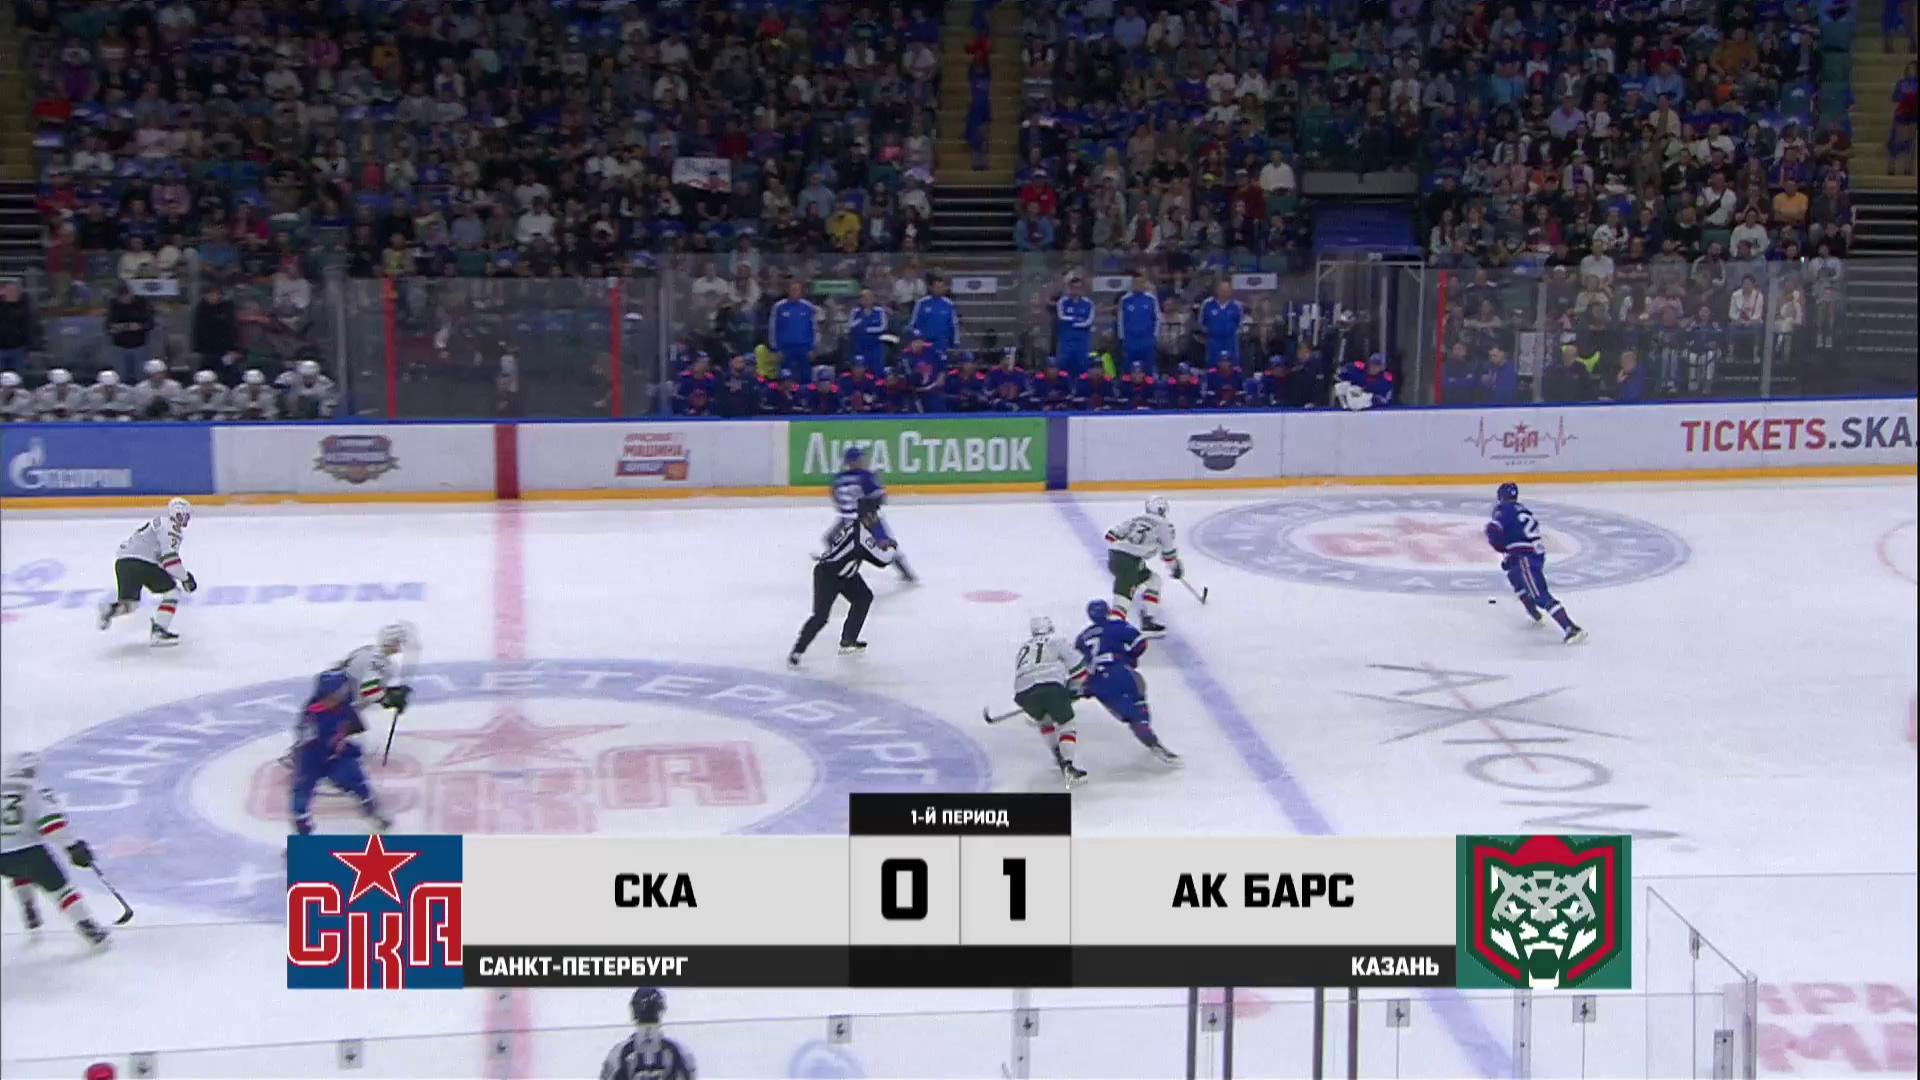ball: (1487, 599, 1497, 605)
